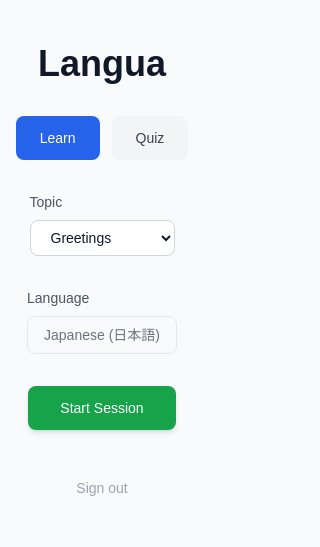
Test: HomePage › shows error when start session fails
This screenshot has width=320, height=547.
Expected: the dropdown is shown, x1=30 y1=220 x2=174 y2=256
Step 1. Click the button "Start Session" → (102, 408), box x1=28 y1=386 x2=176 y2=430
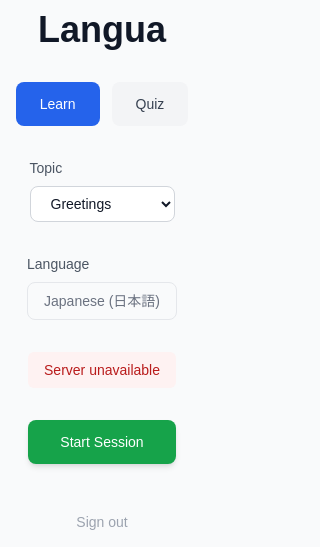
Expected: the text "Server unavailable" is shown, x1=28 y1=352 x2=176 y2=388
